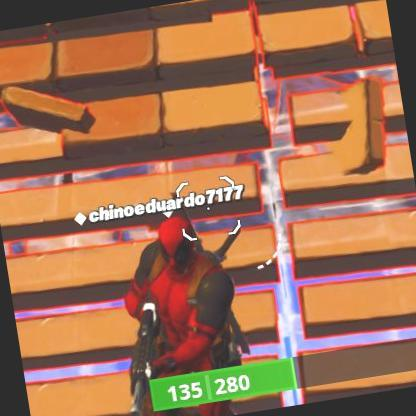person: (132, 233, 262, 408)
